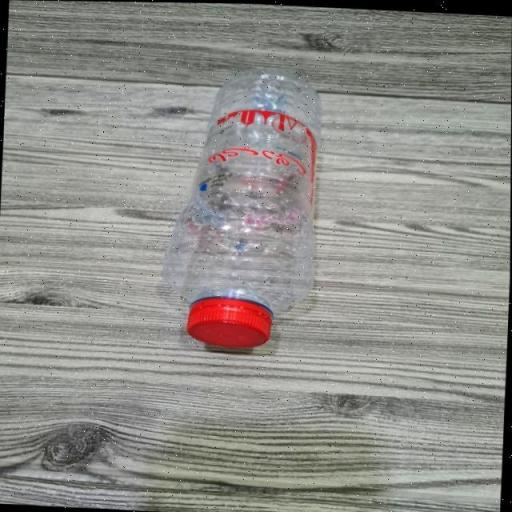plastic: (157, 55, 334, 361)
